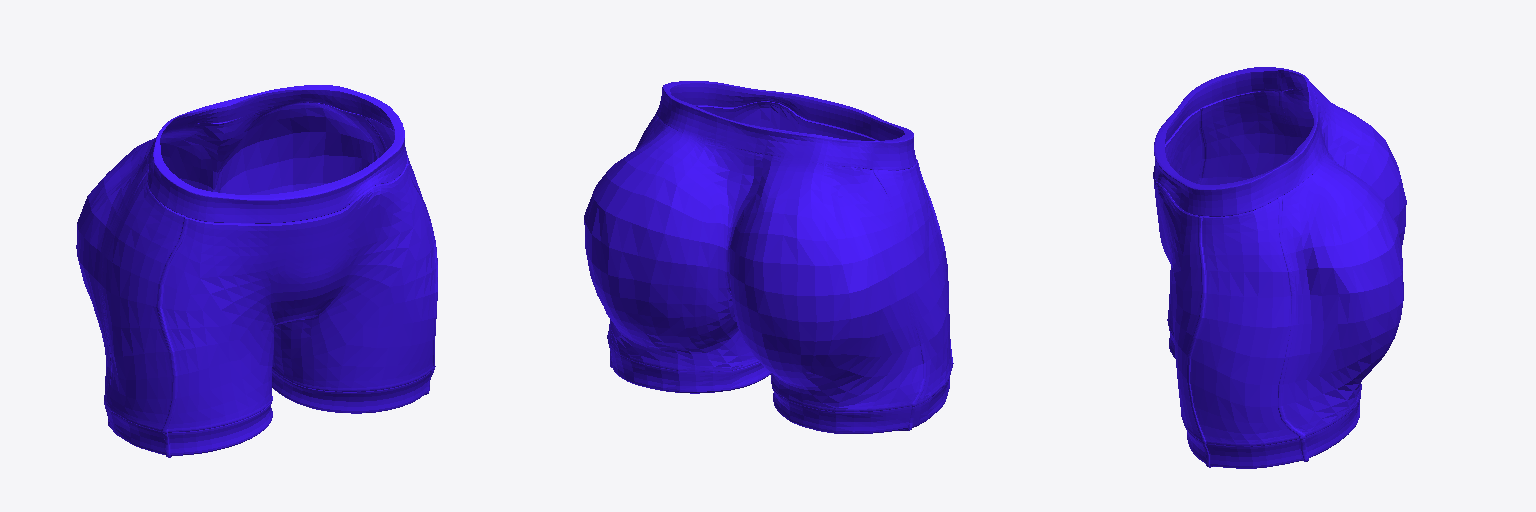
3 views of the same model, side by side, from view 1: azimuth 30°, elevation 25°; view 2: azimuth 150°, elevation 25°; view 3: azimuth 270°, elevation 25° (orthographic).
Parts seen in each view (by area): view 1: ku.001; view 2: ku.001; view 3: ku.001.
Part boxes in pixels (left/top/right/bottom): ku.001: left=76, top=85, right=437, bottom=457; ku.001: left=584, top=81, right=953, bottom=433; ku.001: left=1153, top=67, right=1406, bottom=468.
Size of the model in its own units: 4.08 by 3.67 by 2.89.